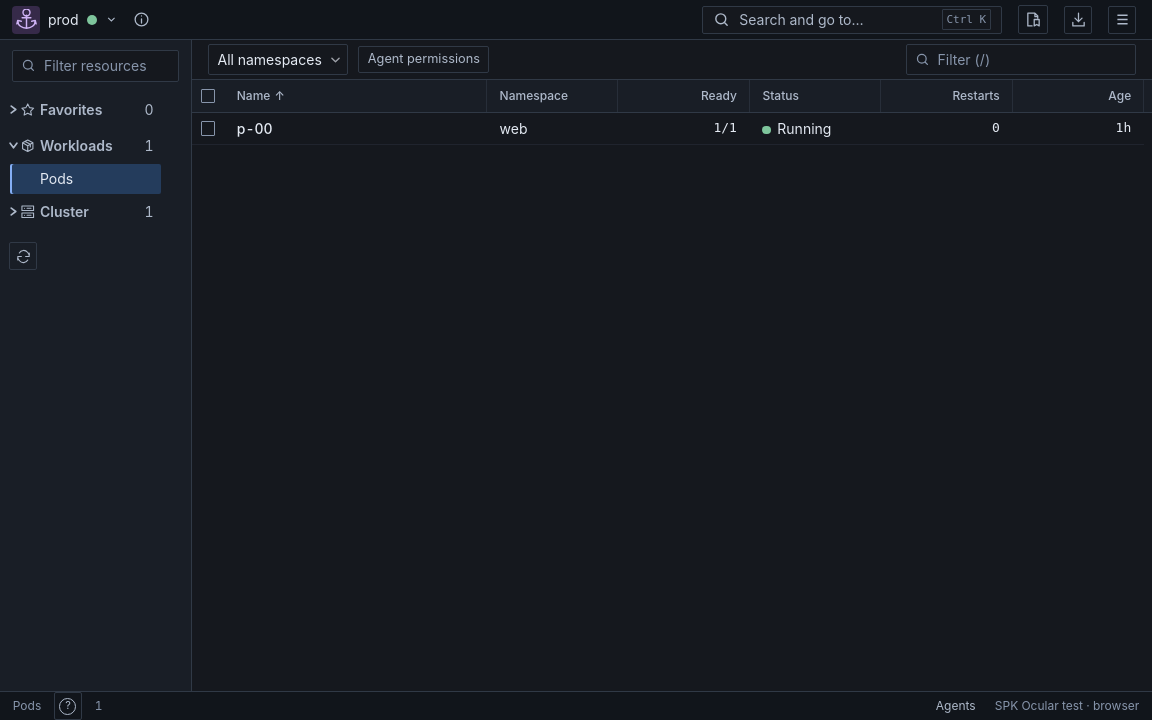
Test: keyboard › Esc clearing the table filter does not also close details
Expected: the text "p-00" is shown, [237, 120, 273, 137]
Press Arrowdown Enter
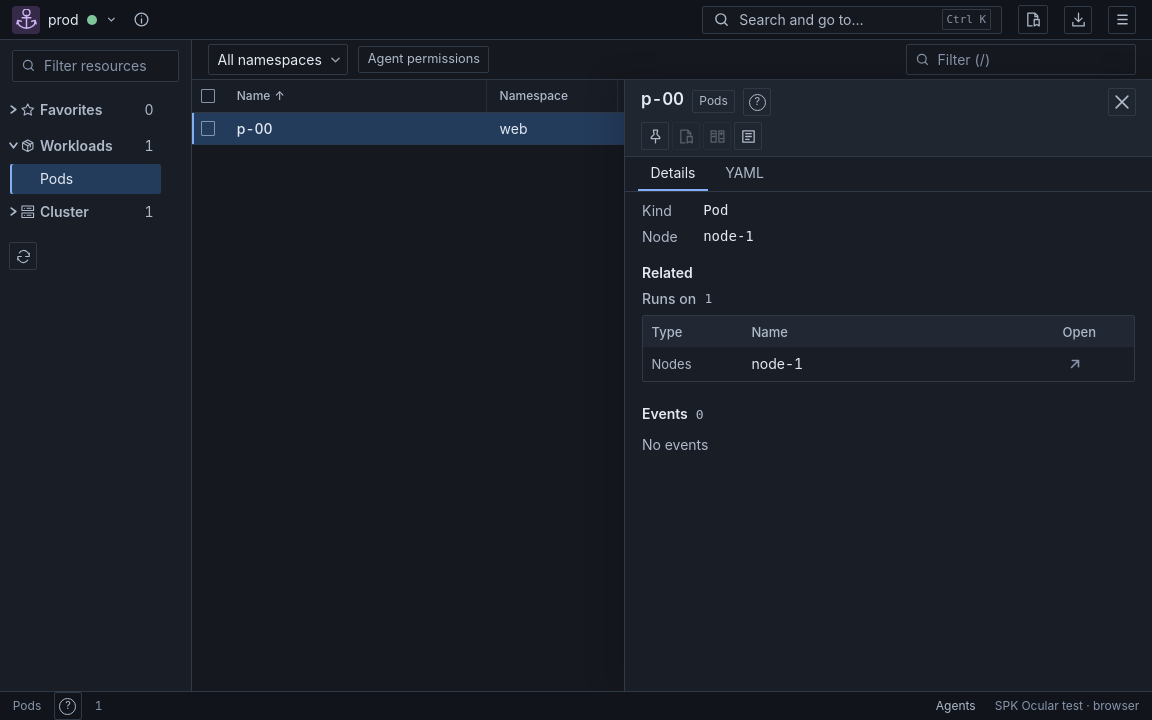
Now the dialog named "pods p-00" is shown, box [624, 80, 1151, 691]
In the field named "Filter rows": (1032, 60) [938, 50, 1127, 69], type "p"
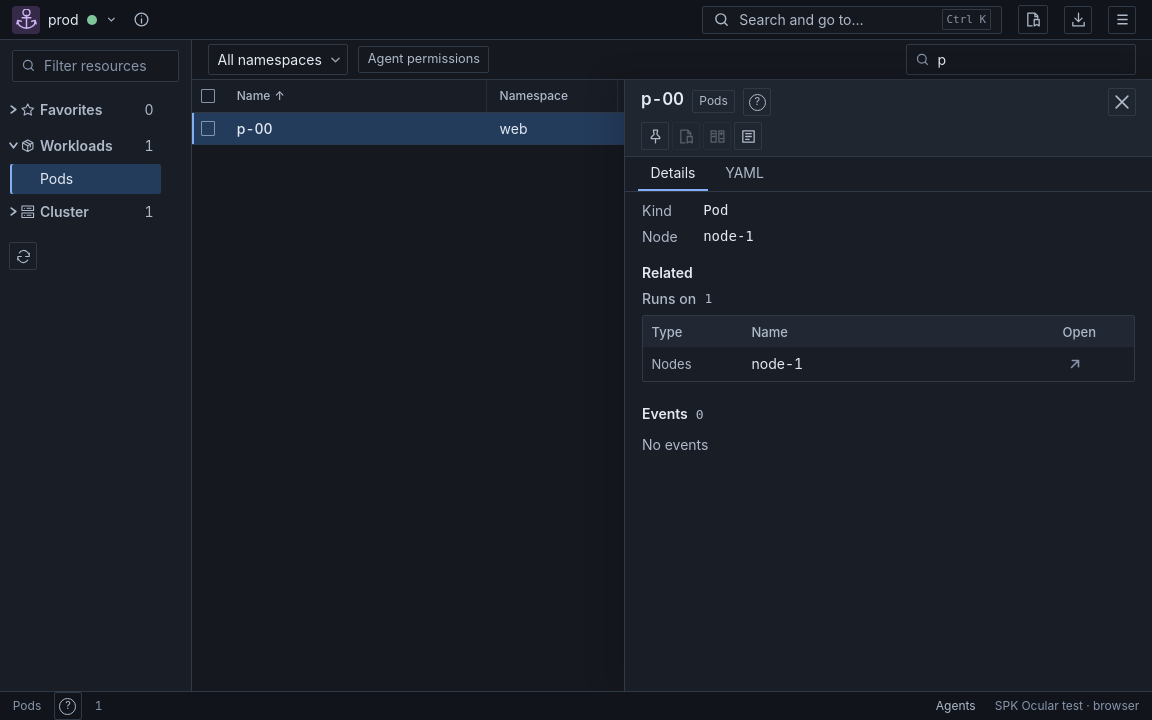
Press Escape
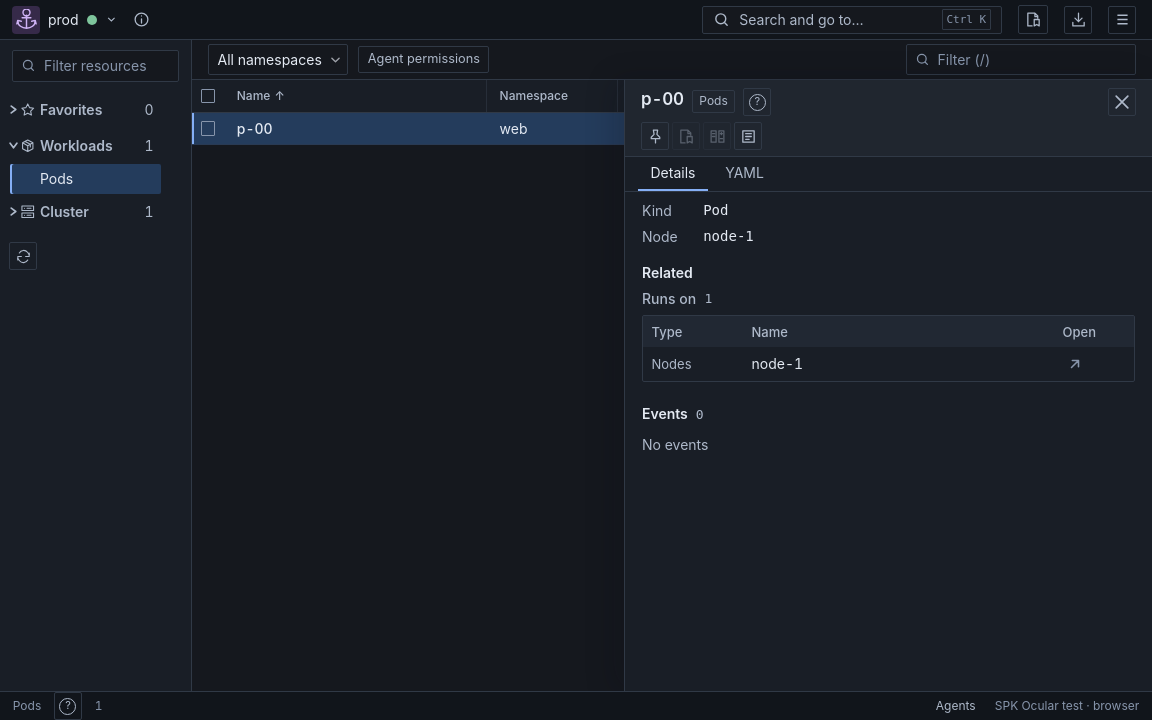
Now the dialog named "pods p-00" is shown, box [624, 80, 1151, 691]
Now the field named "Filter rows" is empty, box [938, 50, 1127, 69]
